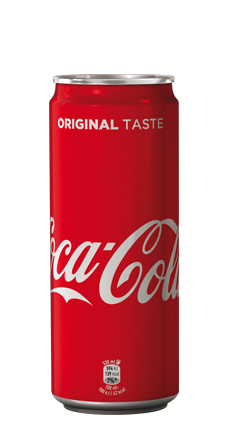can: (45, 70, 185, 418)
